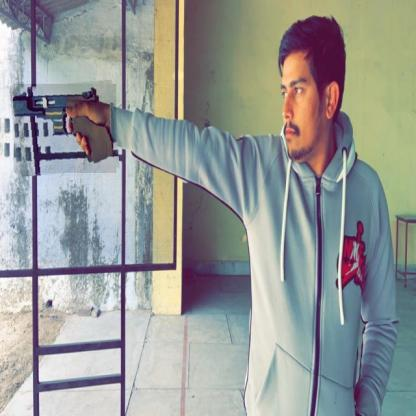handgun: (12, 82, 118, 175)
